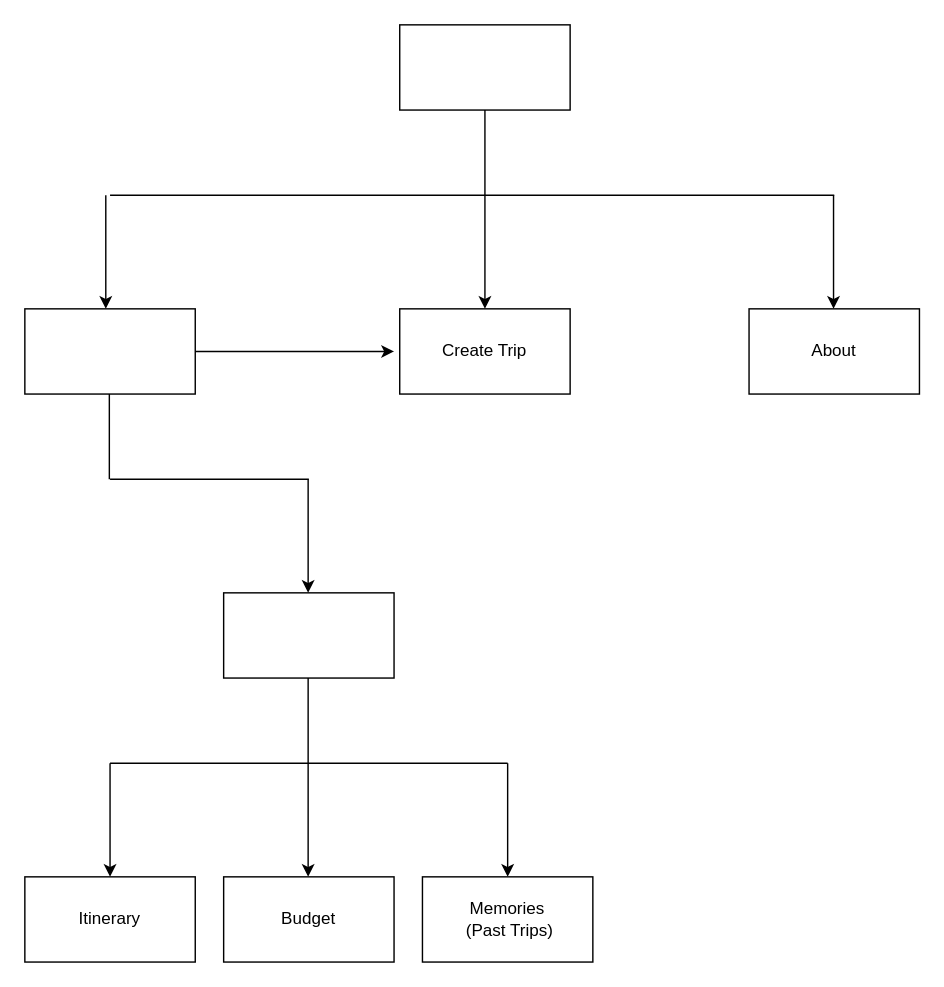
Image size: 944x987. Some labels were removed from this diagram. The shapes that lost their labels are listed below. From the top down, each one's centre as x and y in pixels, then its label:
the point at 484,66: Home
the point at 109,350: My Trips
the point at 308,634: Trip Details
